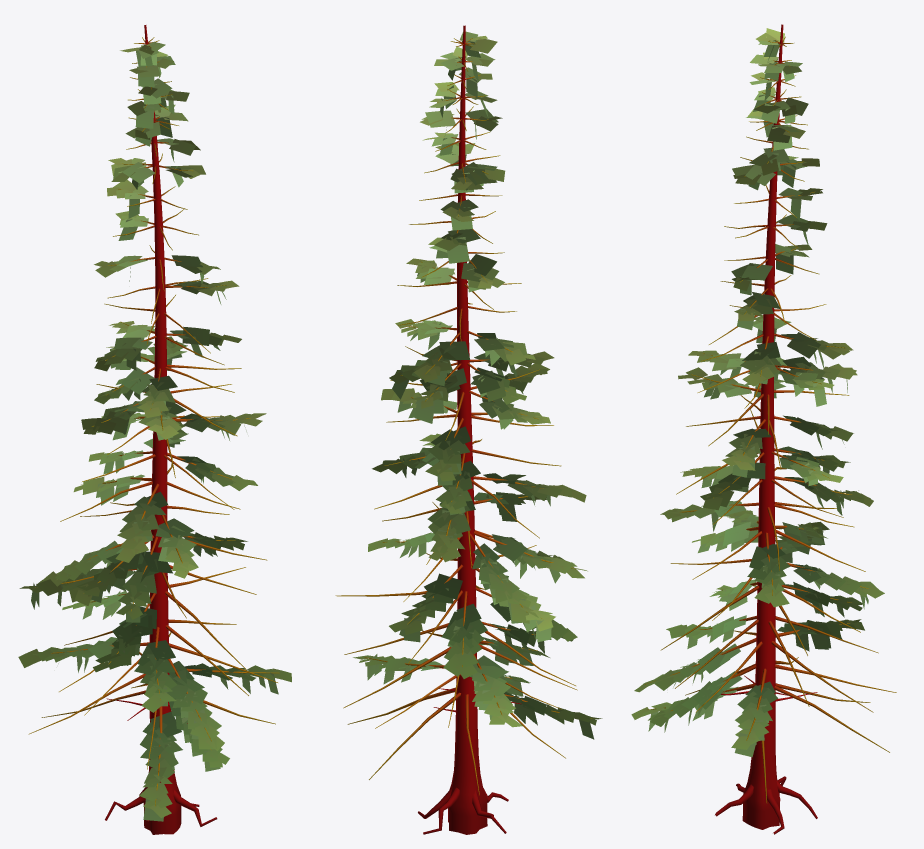
The model's file is spruce_c.glb.
3 views of the same model, side by side, from view 1: azimuth 30°, elevation 25°; view 2: azimuth 150°, elevation 25°; view 3: azimuth 270°, elevation 25° (orthographic). The views are drawn at different scales.
Visible parts, largest first — view 1: LOD0; view 2: LOD0; view 3: LOD0.
Part boxes in pixels (x1,y1,x2,y2): LOD0: (18,25,291,834); LOD0: (335,25,602,834); LOD0: (631,24,896,834).
Size of what is drawn, in the model's own units: 5.81 by 17.71 by 5.59.
